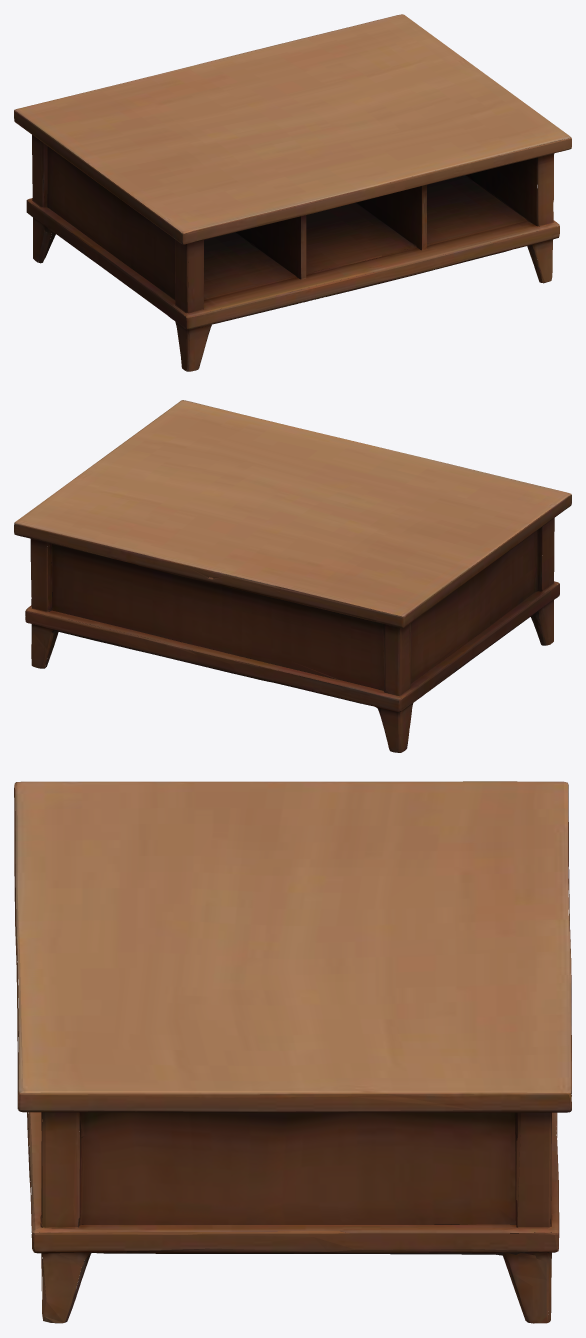
File: table-.glb
The picture shows the model from 3 angles, top to bottom: view 1: azimuth 30°, elevation 25°; view 2: azimuth 150°, elevation 25°; view 3: azimuth 270°, elevation 25°; orthographic projection. The views are drawn at different scales.
Visible parts, largest first — view 1: geometry_0; view 2: geometry_0; view 3: geometry_0.
Boxes of the visible parts, left/top/right/bottom form: geometry_0: left=14, top=14, right=571, bottom=371; geometry_0: left=14, top=400, right=571, bottom=752; geometry_0: left=14, top=781, right=571, bottom=1323.
Size of the model in its own units: 1 by 0.3598 by 0.7558.
1 material, 1 textured.
